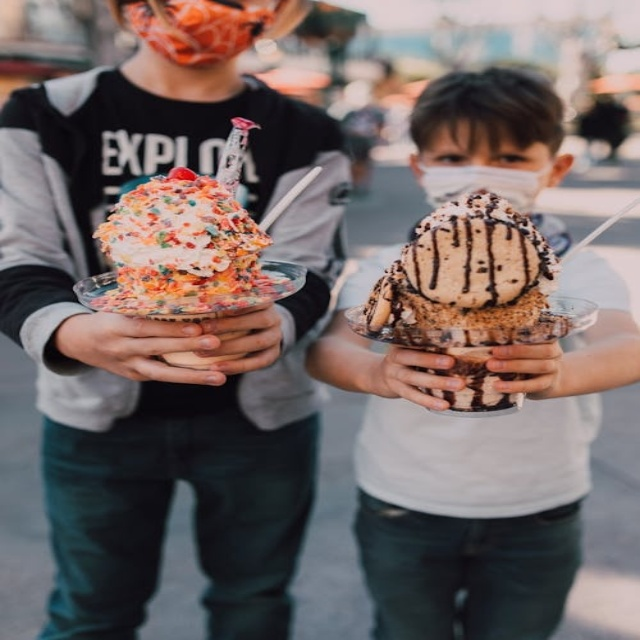Mascara: (123, 1, 285, 67), (417, 159, 548, 213)
Sin_gafas: (419, 143, 545, 169)
Sin_guantes: (63, 304, 276, 388), (367, 346, 471, 413), (480, 341, 577, 401)
